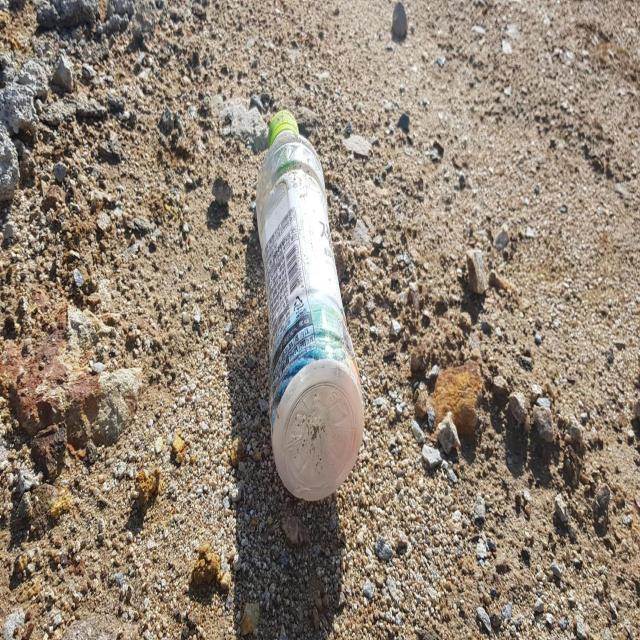plastic: (256, 108, 364, 500)
